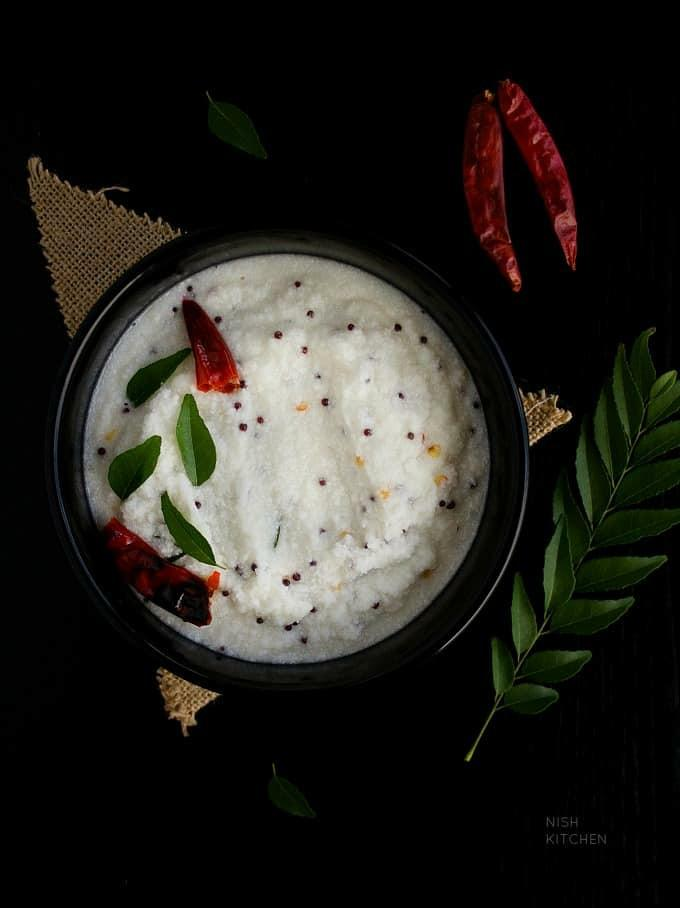CoconutChutney: (81, 254, 482, 663)
